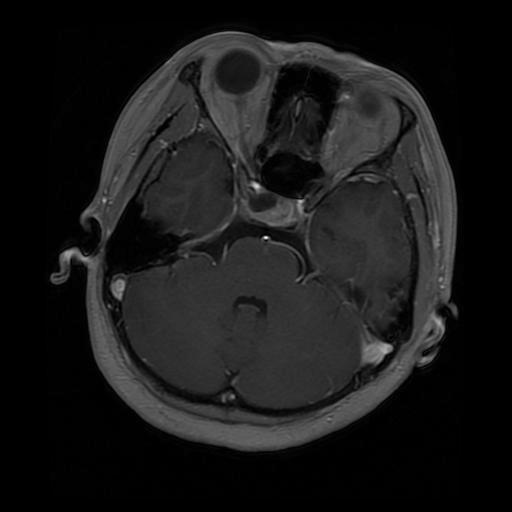Tumour-Pituitary: (229, 195, 321, 235)
